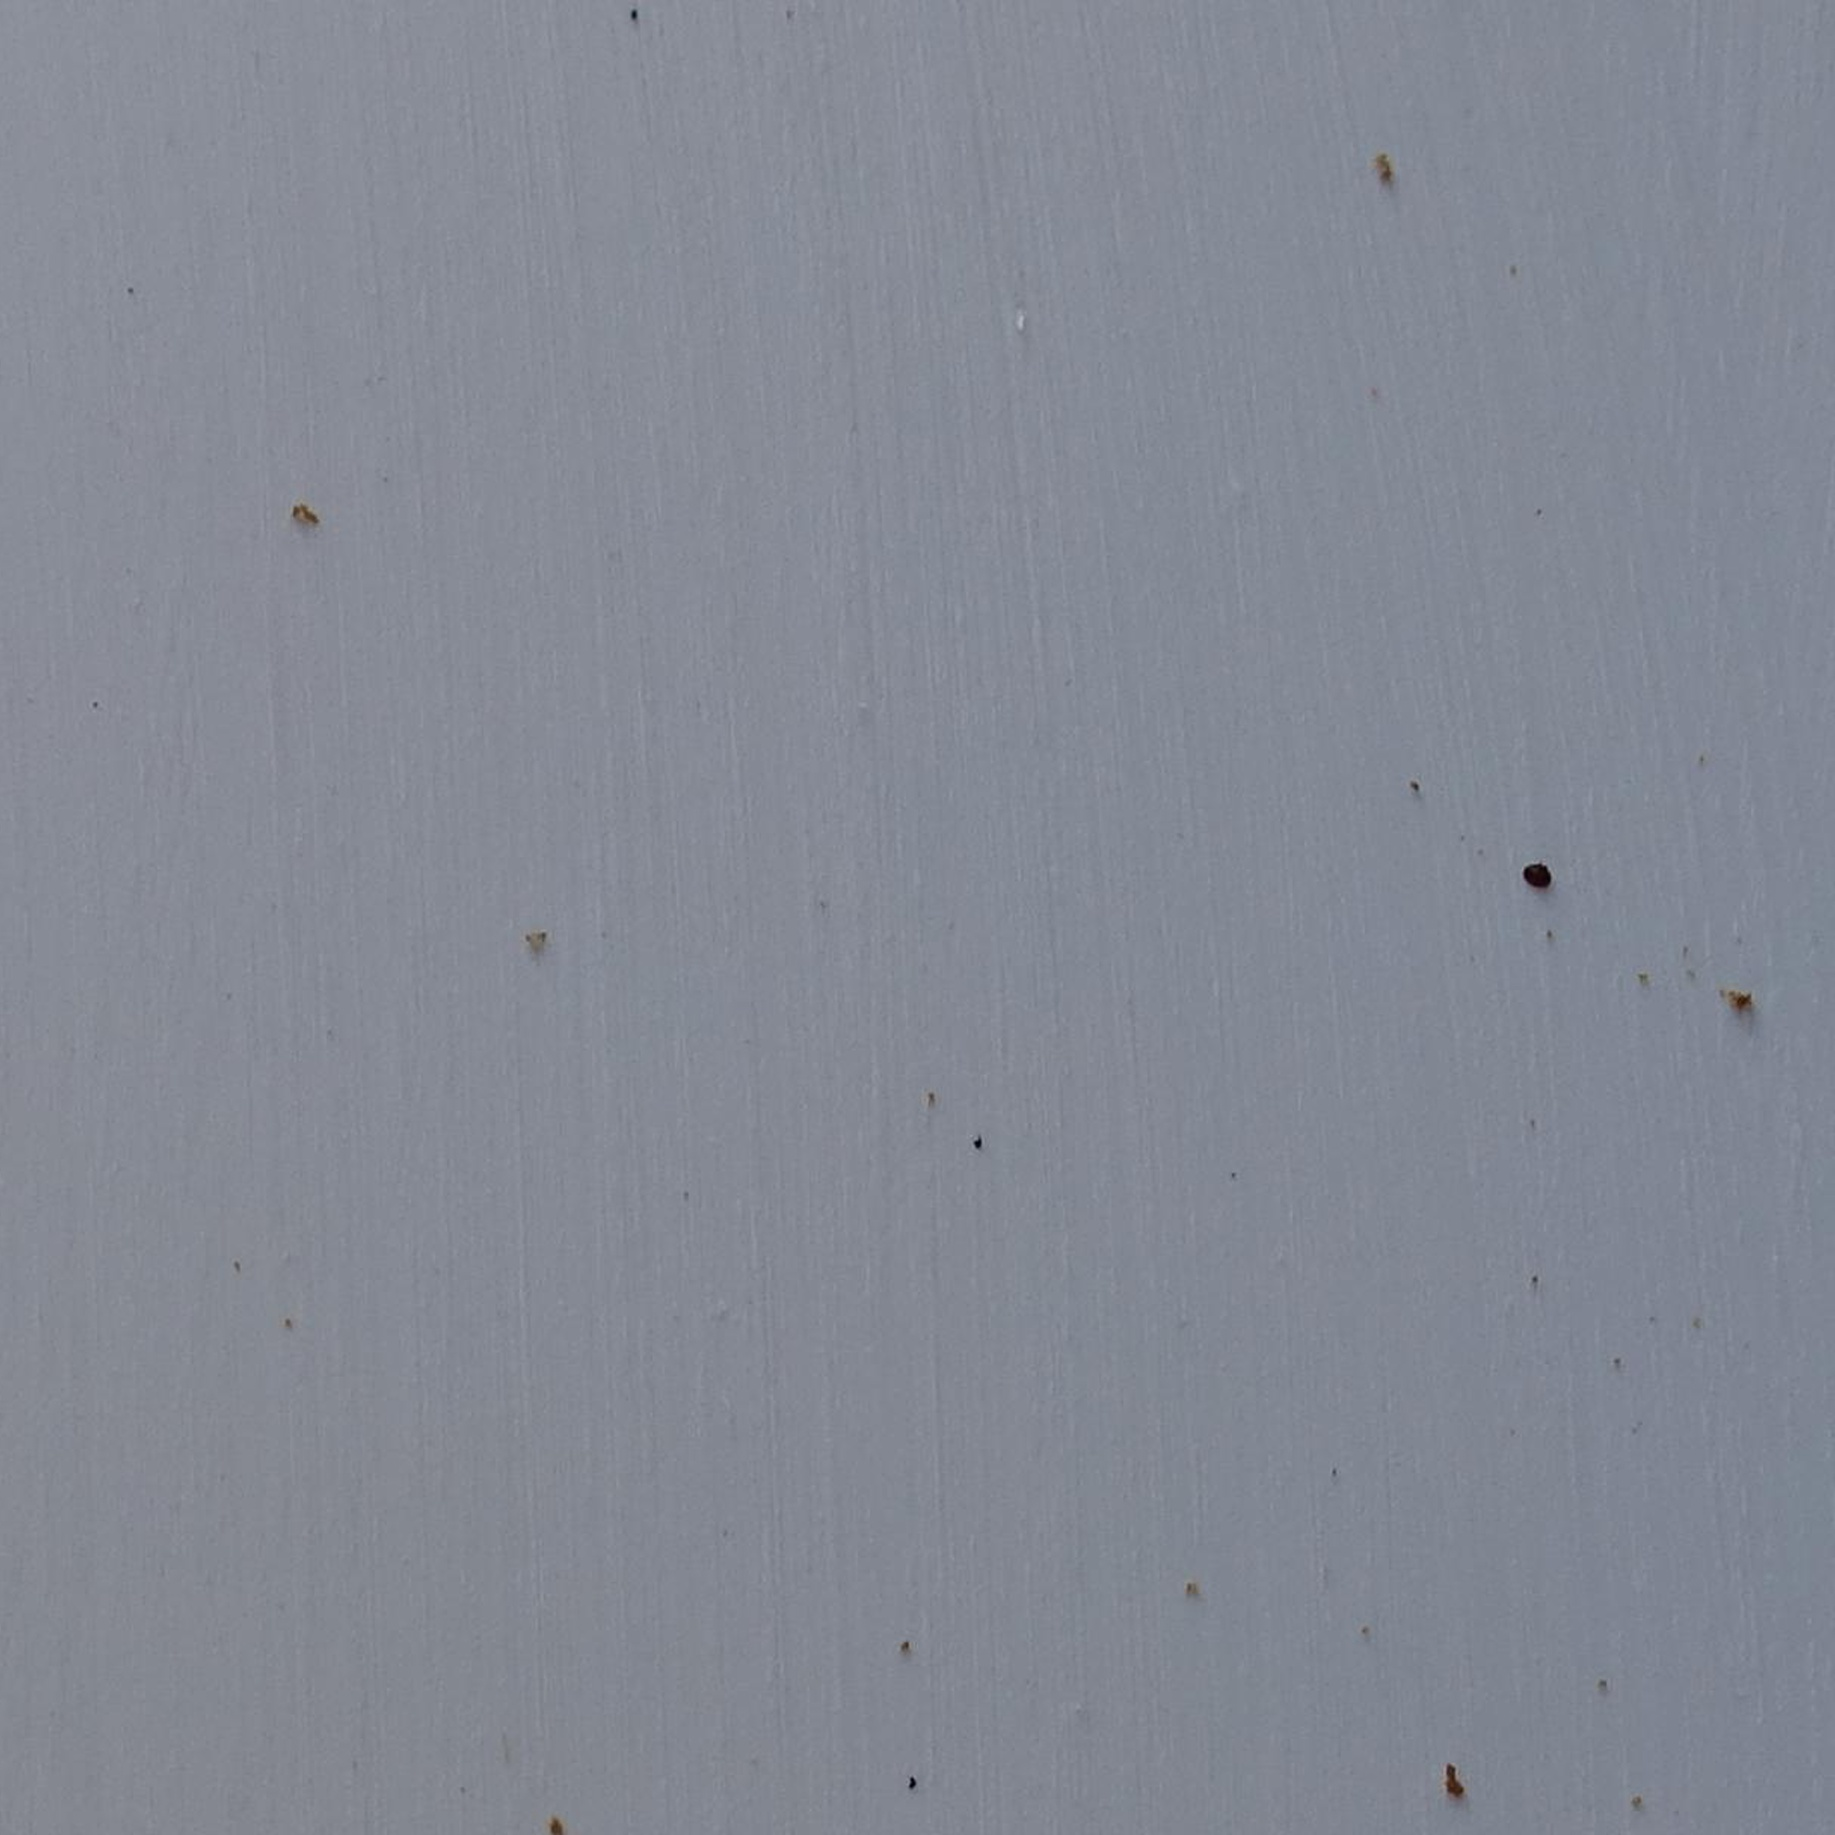Varroa: (1521, 860, 1548, 886)
